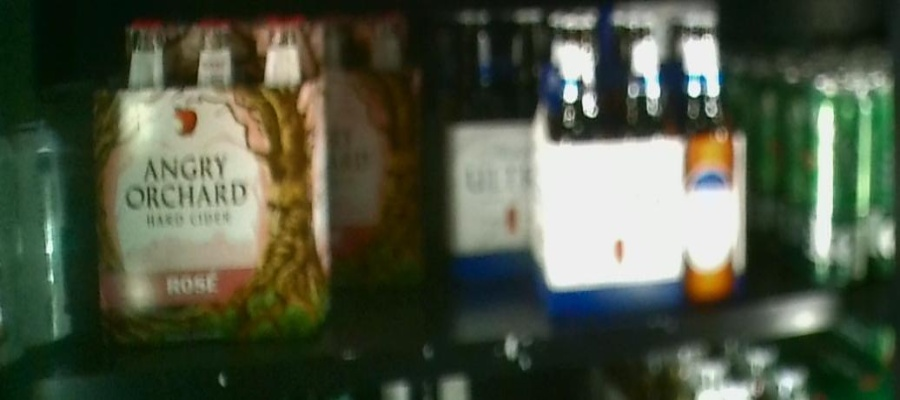bottle: (100, 19, 333, 340), (542, 1, 747, 322)
